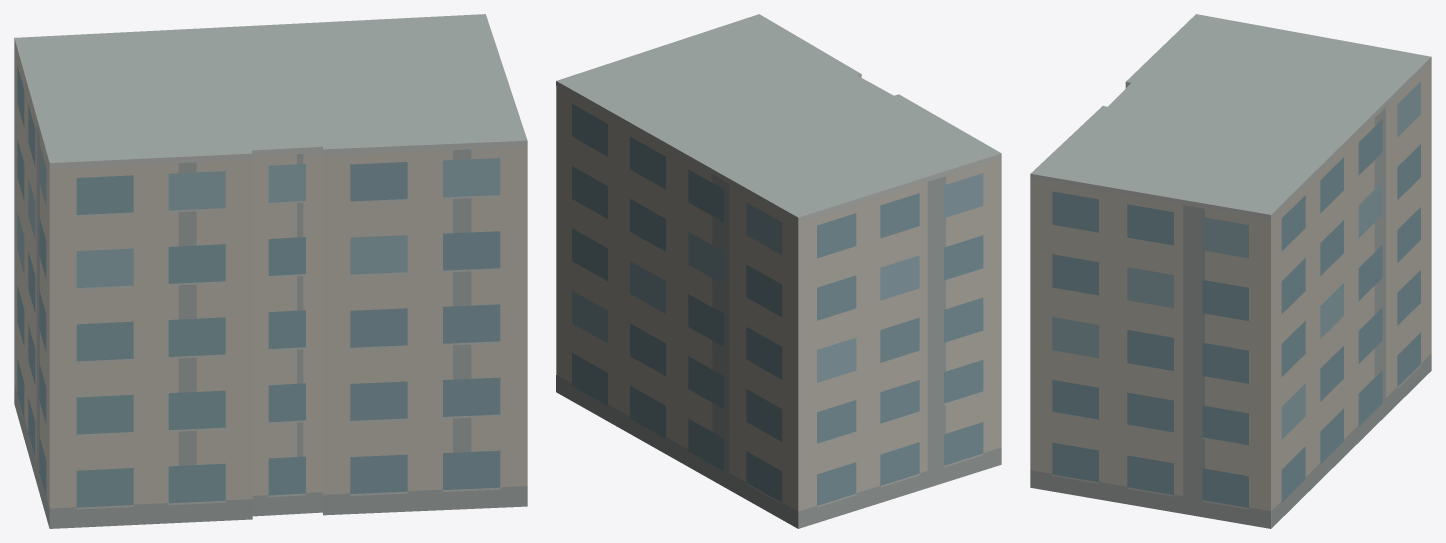
File: survey-upis-32845983.glb
The picture shows the model from 3 angles, left to right: view 1: azimuth 30°, elevation 25°; view 2: azimuth 150°, elevation 25°; view 3: azimuth 270°, elevation 25°; orthographic projection. The views are drawn at different scales.
Parts seen in each view (by area): view 1: survey-upis-32845983.tmp; view 2: survey-upis-32845983.tmp; view 3: survey-upis-32845983.tmp.
Boxes of the visible parts, box(x1,y1,x2,y2) form: survey-upis-32845983.tmp: box(14, 14, 527, 528); survey-upis-32845983.tmp: box(556, 14, 1001, 528); survey-upis-32845983.tmp: box(1030, 14, 1431, 528).
Bounding box in the file's own units: 20.12 × 14.65 × 16.97.
